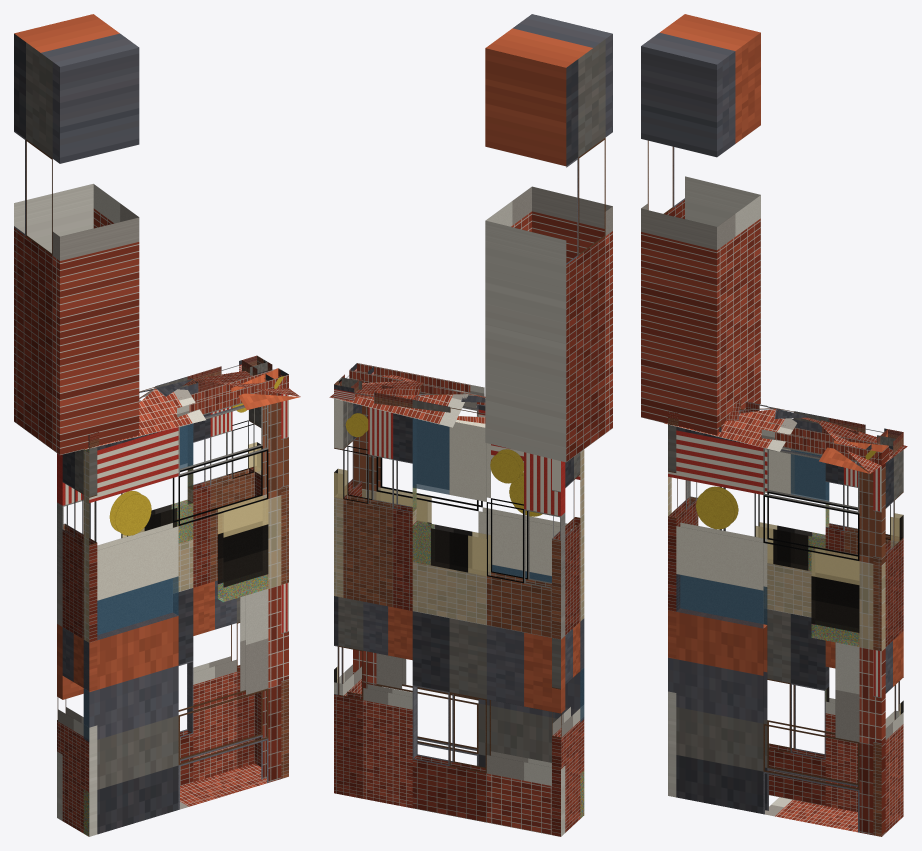
3 views of the same model, side by side, from view 1: azimuth 30°, elevation 25°; view 2: azimuth 150°, elevation 25°; view 3: azimuth 330°, elevation 25° (orthographic). The views are drawn at different scales.
Visible parts, largest first — view 1: 1485739319__wall_1_xb, 1485739319__chimney_0_xb, 1485739319__wall_3_xb, 1485739319__wall_0_xb, 1485739319__wall_1_xf, 1485739319__wall_4_xb, 1485739319__wall_2_xb, 1485739319_roof_front_xb, 1485739319__cornice_1, 1485739319__base, 1485739319__wall_4_xf, 1485739319__cornice_3 (+1 smaller); view 2: 1485739319__chimney_0_xb, 1485739319__wall_4_xb, 1485739319__wall_3_xb, 1485739319__wall_1_xb, 1485739319__wall_0_xb, 1485739319__wall_4_xf, 1485739319__cornice_1, 1485739319_roof_back_xb, 1485739319__wall_1_xf, 1485739319__wall_2_xb, 1485739319_roof_right_xb, 1485739319__cornice_3 (+1 smaller); view 3: 1485739319__wall_1_xb, 1485739319__chimney_0_xb, 1485739319__wall_4_xb, 1485739319__wall_2_xb, 1485739319__wall_1_xf, 1485739319__wall_3_xb, 1485739319__wall_0_xb, 1485739319__wall_4_xf, 1485739319_roof_front_xb, 1485739319__cornice_1, 1485739319__base, 1485739319_roof_right_xb (+2 smaller).
Part boxes in pixels (x1,y1,x2,y2): 1485739319__wall_1_xb: (83,392,288,836); 1485739319__chimney_0_xb: (14,14,139,454); 1485739319__wall_3_xb: (187,403,261,781); 1485739319__wall_0_xb: (57,447,97,836); 1485739319__wall_1_xf: (84,449,267,835); 1485739319__wall_4_xb: (57,423,193,820); 1485739319__wall_2_xb: (249,393,288,778); 1485739319_roof_front_xb: (85,389,299,449); 1485739319__cornice_1: (88,368,288,448); 1485739319__base: (180,763,266,809); 1485739319__wall_4_xf: (122,424,192,542); 1485739319__cornice_3: (187,355,267,392); 1485739319__chimney_0_xb: (485,14,612,462); 1485739319__wall_4_xb: (412,418,565,836); 1485739319__wall_3_xb: (334,398,416,808); 1485739319__wall_1_xb: (353,404,584,818); 1485739319__wall_0_xb: (552,452,584,836); 1485739319__wall_4_xf: (413,418,490,575); 1485739319__cornice_1: (349,363,485,408); 1485739319_roof_back_xb: (330,394,468,427); 1485739319__wall_1_xf: (377,488,583,817); 1485739319__wall_2_xb: (334,401,361,696); 1485739319_roof_right_xb: (329,375,485,402); 1485739319__cornice_3: (334,377,417,407); 1485739319__wall_1_xb: (668,426,885,836); 1485739319__chimney_0_xb: (641,14,760,435); 1485739319__wall_4_xb: (686,448,829,805); 1485739319__wall_2_xb: (873,450,903,836); 1485739319__wall_1_xf: (676,492,859,646); 1485739319__wall_3_xb: (825,461,903,812); 1485739319__wall_0_xb: (668,424,698,797); 1485739319__wall_4_xf: (756,450,828,570); 1485739319_roof_front_xb: (664,409,869,473); 1485739319__cornice_1: (719,414,888,465); 1485739319__base: (765,797,857,832); 1485739319_roof_right_xb: (745,401,907,473).
Size of the model in its own units: 0.4537 by 1.4 by 0.152.
Materials: 1 (1 with a texture image).
